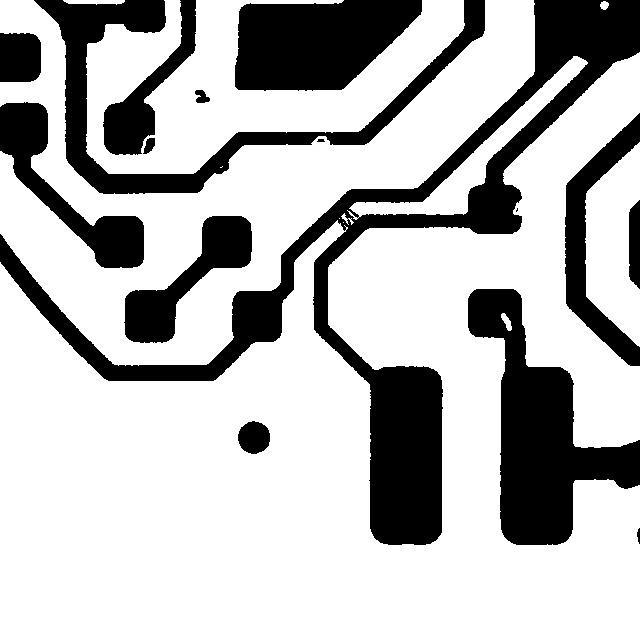copper: (185, 80, 219, 112)
mousebite: (301, 126, 339, 156), (503, 188, 533, 225)
open: (131, 125, 168, 166)
pin-hole: (491, 303, 521, 340)
short: (324, 197, 368, 240)
spur: (203, 147, 238, 183)
